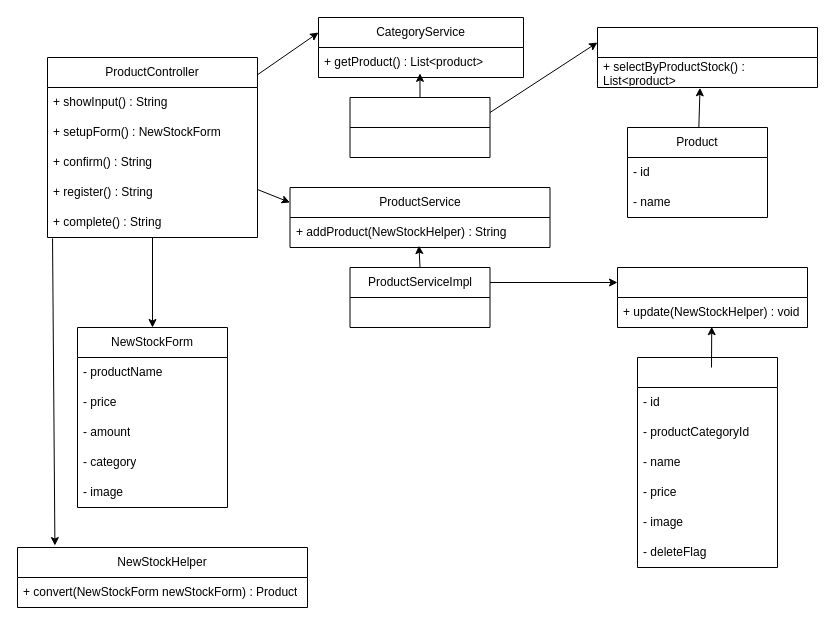
This 835x625 diagram has some shape labels left out. The box of each missing label's shape, as (x1, y1, x2, y2) in pixels:
CategoryRepository: (596, 26, 818, 88)
CategoryServiceImpl: (349, 96, 490, 158)
Product_stock: (636, 356, 778, 568)
ProductRepository: (616, 266, 808, 328)
